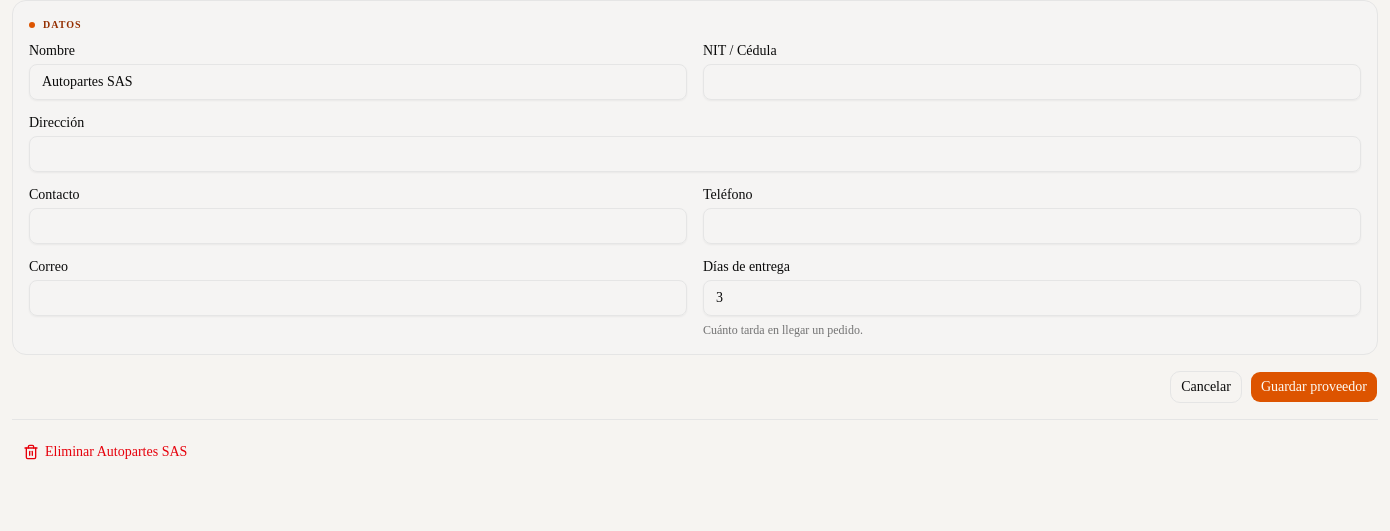
Test: EditarProveedorForm — eliminar › shows the refusal reason
Click the button "Eliminar Autopartes SAS" at coordinates (105, 452), box [12,436,198,468]
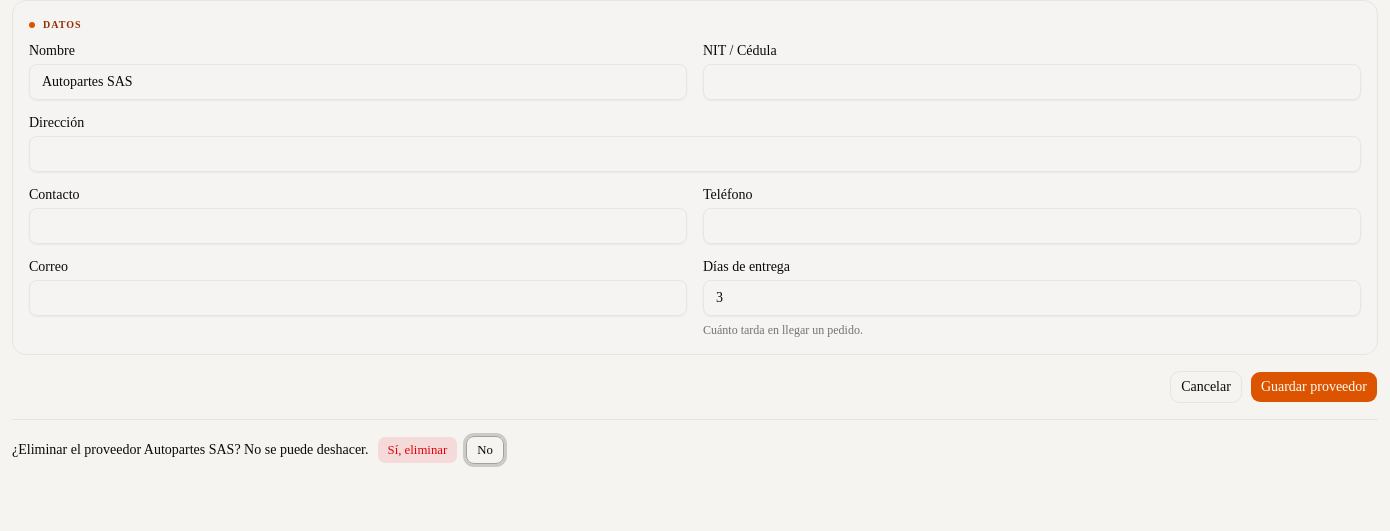
Click the button "Sí, eliminar" at coordinates (417, 450), box [376,436,458,464]
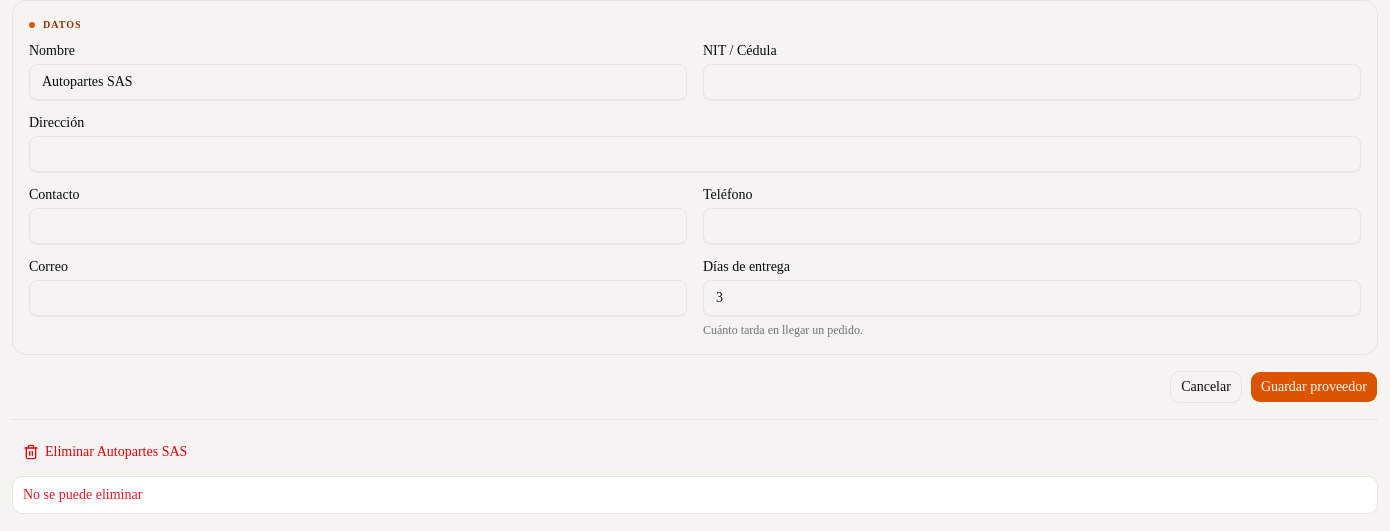
Expected: the message reads "No se puede eliminar", [23,487,142,502]
